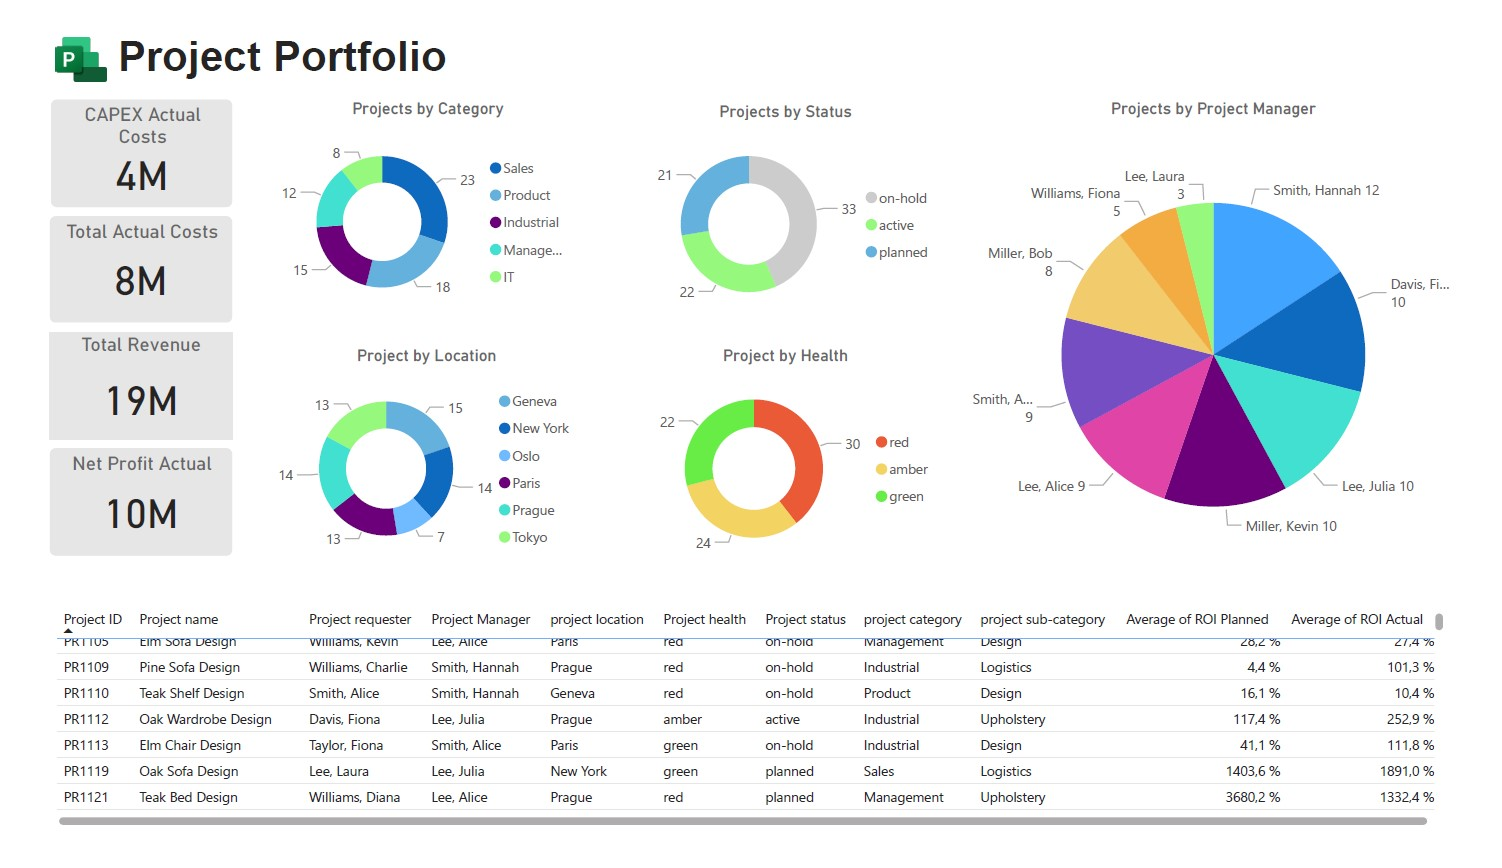

What the dashboard file says about the page in this screenshot:
{"tool":"powerbi","page":{"name":"Page 1","canvas":[1280,720],"ordinal":0},"visuals":[{"type":"card","title":"CAPEX Actual Costs","fields":{"Values":["furniture_projects.CAPEX Actual Cost"]},"box":[22.4,64.5,160,95],"z":0},{"type":"card","title":"Net Profit Actual","fields":{"Values":["furniture_projects.Net Profit Actual"]},"box":[21.5,371.6,160.3,94.9],"z":2000},{"type":"card","title":"Total Actual Costs","fields":{"Values":["furniture_projects.Overall Actual Cost"]},"box":[21.5,166.6,160.3,94.9],"z":4000},{"type":"card","title":"Total Revenue","fields":{"Values":["furniture_projects.Revenue"]},"box":[21.5,269.6,160.3,94.9],"z":5001},{"type":"donutChart","title":"Projects by Category","fields":{"Y":["HTML Code.input_project_list"],"Category":["furniture_projects.project category"]},"box":[214.9,64.5,280,200],"z":5002},{"type":"donutChart","title":"Projects by Status","fields":{"Category":["furniture_projects.Project status"],"Y":["HTML Code.input_project_list"]},"box":[531,66.3,280.3,199.7],"z":5003},{"type":"donutChart","title":"Project by Health","fields":{"Category":["furniture_projects.Project health"],"Y":["HTML Code.input_project_list"]},"box":[531,282.1,280.3,199.7],"z":5004},{"type":"donutChart","title":"Project by Location","fields":{"Y":["HTML Code.input_project_list"],"Series":["furniture_projects.project location"]},"box":[214,282.1,280.3,199.7],"z":5005},{"type":"pieChart","title":"Projects by Project Manager","fields":{"Category":["furniture_projects.Project Manager"],"Y":["HTML Code.input_project_list"]},"box":[829.3,64.5,439.7,434.3],"z":5006},{"type":"tableEx","fields":{"Values":["furniture_projects.Project ID","furniture_projects.Project name","furniture_projects.Project requester","furniture_projects.Project Manager","furniture_projects.project location","furniture_projects.Project health","furniture_projects.Project status","furniture_projects.project category","furniture_projects.project sub-category","furniture_projects.ROI Planned","furniture_projects.ROI Actual"]},"box":[22.4,506,1235.8,205.1],"z":5007},{"type":"textbox","box":[76.1,0,365.4,55.5],"z":5008},{"type":"image","box":[21.5,0,54.6,55.5],"z":5009}]}

Visuals, with their boxes on the page's 1280x720 design canvas (x1, y1, x2, y2). These are canvas units, not pixel positions in the 1502x868 screenshot, which may show the page scaled, cropped or inside an application window:
"CAPEX Actual Costs" card: [x1=22, y1=64, x2=182, y2=160]
"Net Profit Actual" card: [x1=22, y1=372, x2=182, y2=466]
"Total Actual Costs" card: [x1=22, y1=167, x2=182, y2=262]
"Total Revenue" card: [x1=22, y1=270, x2=182, y2=364]
"Projects by Category" donutChart: [x1=215, y1=64, x2=495, y2=264]
"Projects by Status" donutChart: [x1=531, y1=66, x2=811, y2=266]
"Project by Health" donutChart: [x1=531, y1=282, x2=811, y2=482]
"Project by Location" donutChart: [x1=214, y1=282, x2=494, y2=482]
"Projects by Project Manager" pieChart: [x1=829, y1=64, x2=1269, y2=499]
tableEx - furniture_projects.Project ID x furniture_projects.Project name: [x1=22, y1=506, x2=1258, y2=711]
textbox: [x1=76, y1=0, x2=442, y2=56]
image: [x1=22, y1=0, x2=76, y2=56]
